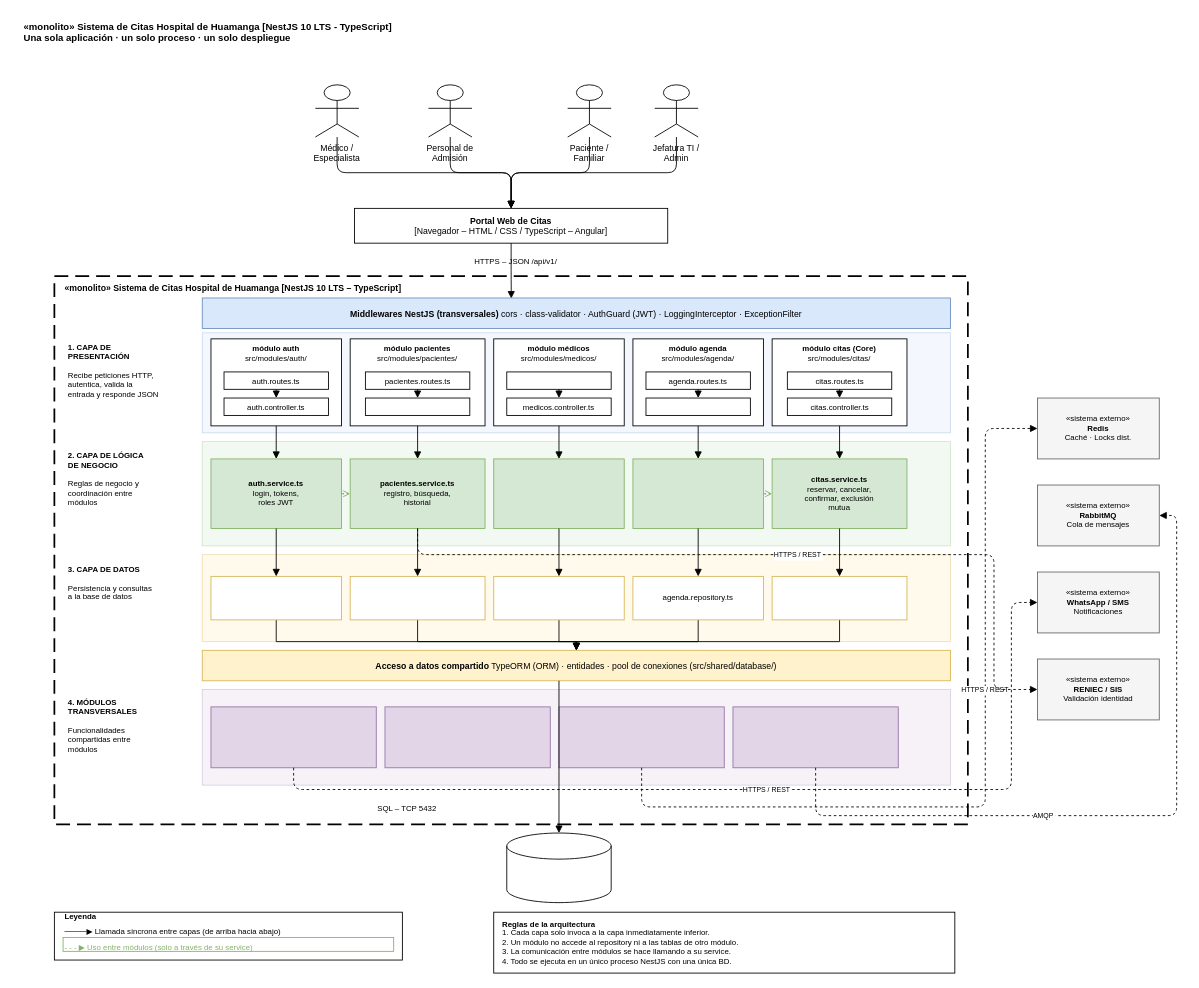
This 1199x988 diagram has some shape labels left out. The centre of each missing label's shape, as x and y in pixels:
"agenda.controller.ts" belongs at (x=697, y=406).
"agenda.service.ts turnos, slots, bloqueos Redis" belongs at (x=697, y=493).
"auditoria.service.ts logs de auditoría, trazabilidad" belongs at (x=467, y=737).
"auth.repository.ts" belongs at (x=275, y=598).
"cache.service.ts Redis – slots en caché, locks distribuidos" belongs at (x=641, y=737).
"citas.repository.ts" belongs at (x=839, y=598).
"eventos.service.ts RabbitMQ – eventos asíncronos de citas" belongs at (x=815, y=737).
"medicos.repository.ts" belongs at (x=558, y=598).
"medicos.routes.ts" belongs at (x=558, y=380).
"medicos.service.ts disponibilidad, especialidades" belongs at (x=558, y=493).
"notificaciones.service.ts WhatsApp, SMS, correo" belongs at (x=293, y=737).
"pacientes.controller.ts" belongs at (x=417, y=406).
"pacientes.repository.ts" belongs at (x=417, y=598).
"PostgreSQL hospital_citas_db" belongs at (x=558, y=867).
